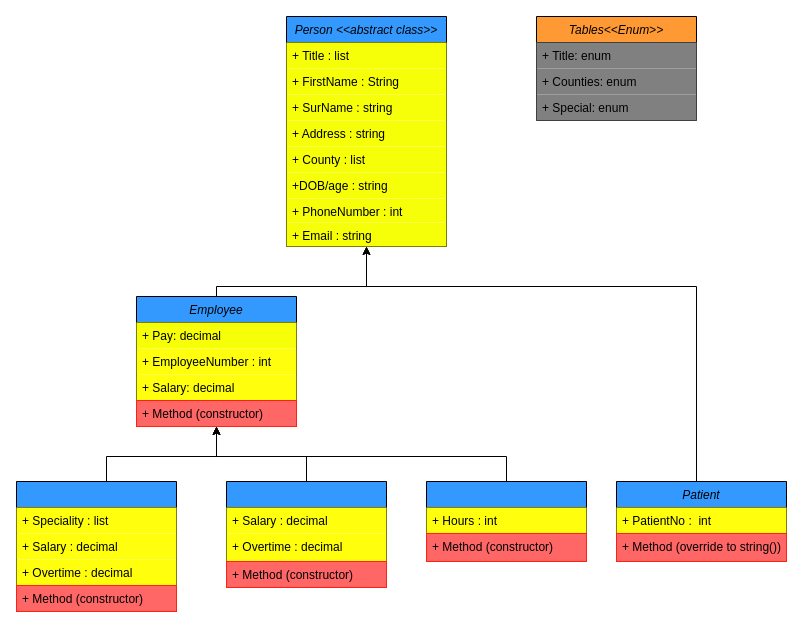
Image size: 803x628. Some labels were removed from this diagram. Here are the shapes that lost their labels. From the top down, the box of each, then its label:
(226, 480, 386, 588): Nurse
(426, 480, 586, 562): Part Time
(16, 480, 176, 612): Doctor
